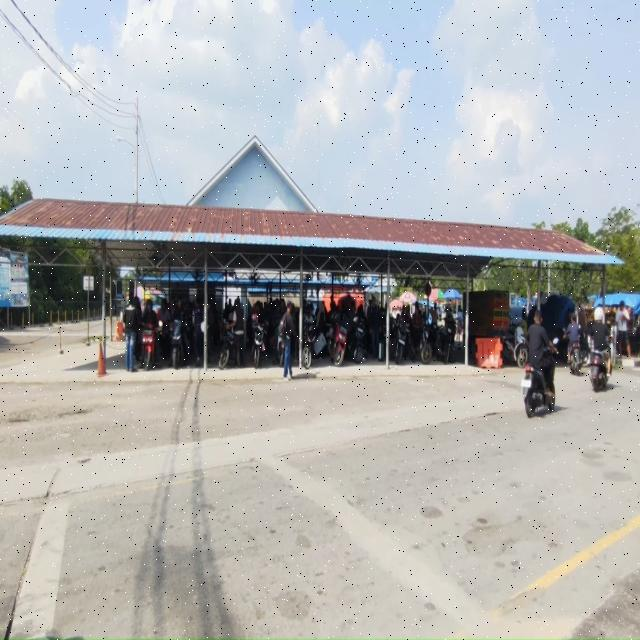Golongan II: (521, 338, 559, 418), (503, 326, 528, 368), (142, 321, 162, 371), (436, 320, 457, 364), (331, 316, 348, 366), (348, 316, 365, 364), (590, 350, 608, 392), (302, 323, 318, 369), (219, 330, 236, 370), (252, 322, 266, 368), (395, 319, 409, 365), (171, 320, 184, 369), (419, 322, 432, 364), (569, 342, 582, 376)
